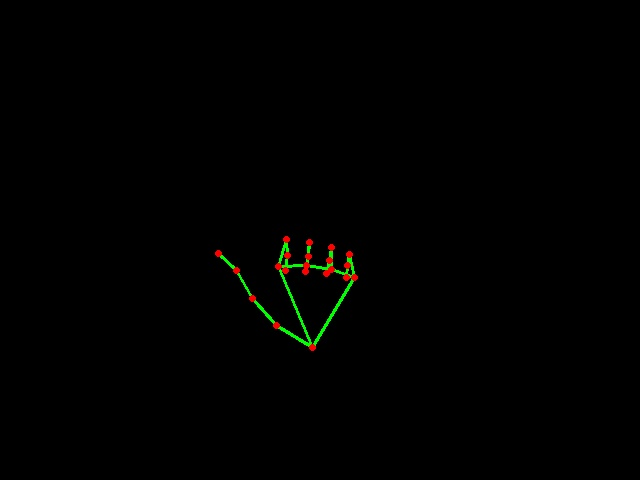right: (197, 227, 371, 359)
